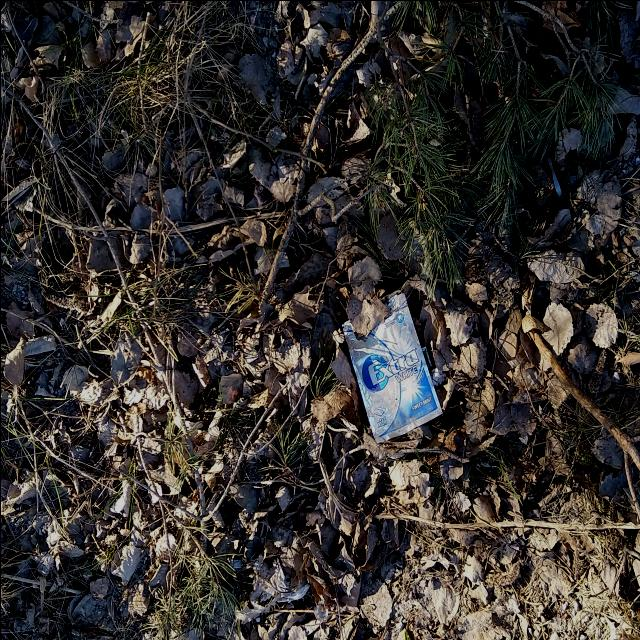Other plastic: (341, 292, 442, 442)
